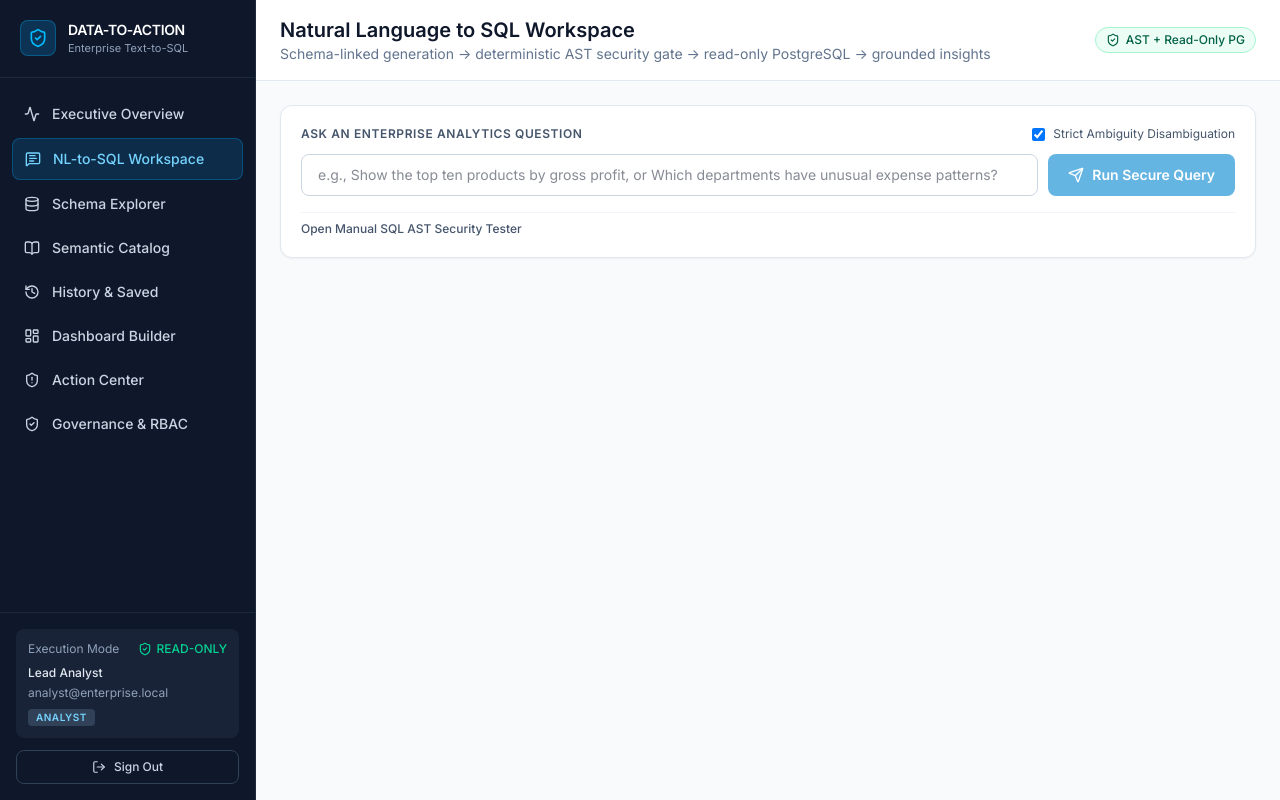
QueryWorkspacePage › submits question and displays SQL preview, validation passed, and result rows
Replace the text in the field labelled "Ask an Enterprise Analytics Question" with "What was the total net revenue last quarter?". click: (670, 175)
box: [301,154,1038,196]
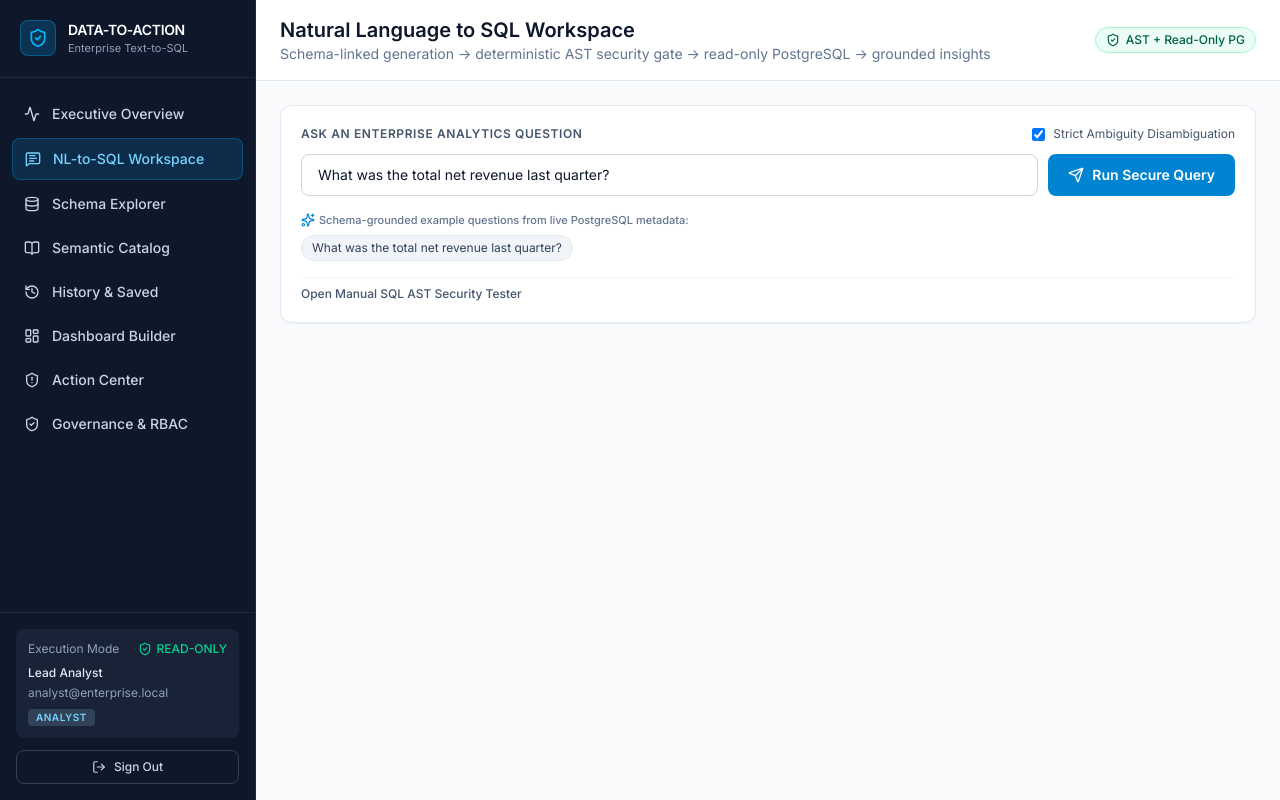
Click the button "Run Secure Query". click: (1142, 175)
box: [1048,154,1235,196]
(page scrolled)
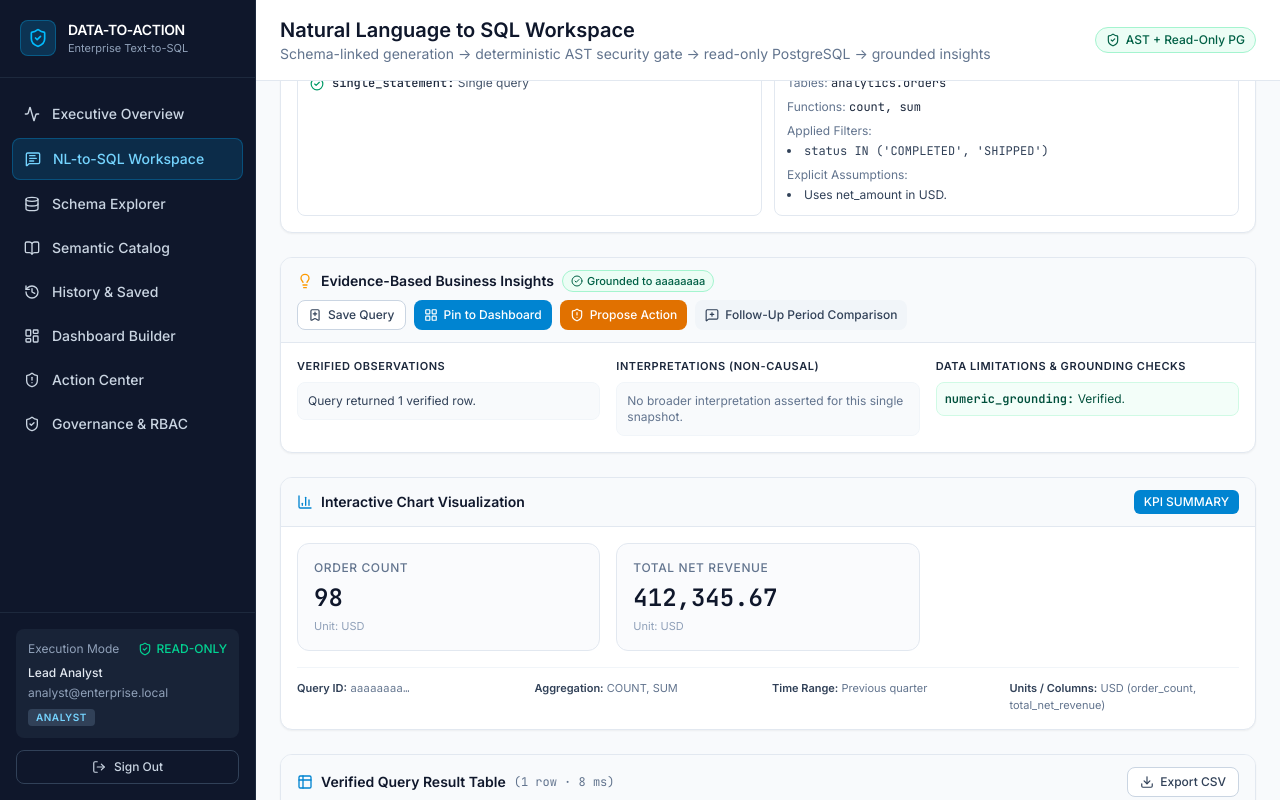
Result: the list item "Query returned 1 verified row." is shown at [297,382,600,420]
